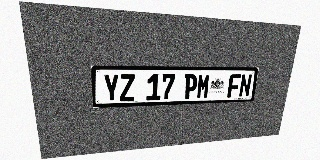1: (146, 74, 161, 100)
7: (161, 74, 175, 100)
F: (227, 74, 241, 98)
M: (196, 74, 211, 99)
N: (238, 74, 252, 97)
P: (183, 74, 198, 99)
Y: (103, 74, 119, 102)
Z: (119, 74, 135, 101)
